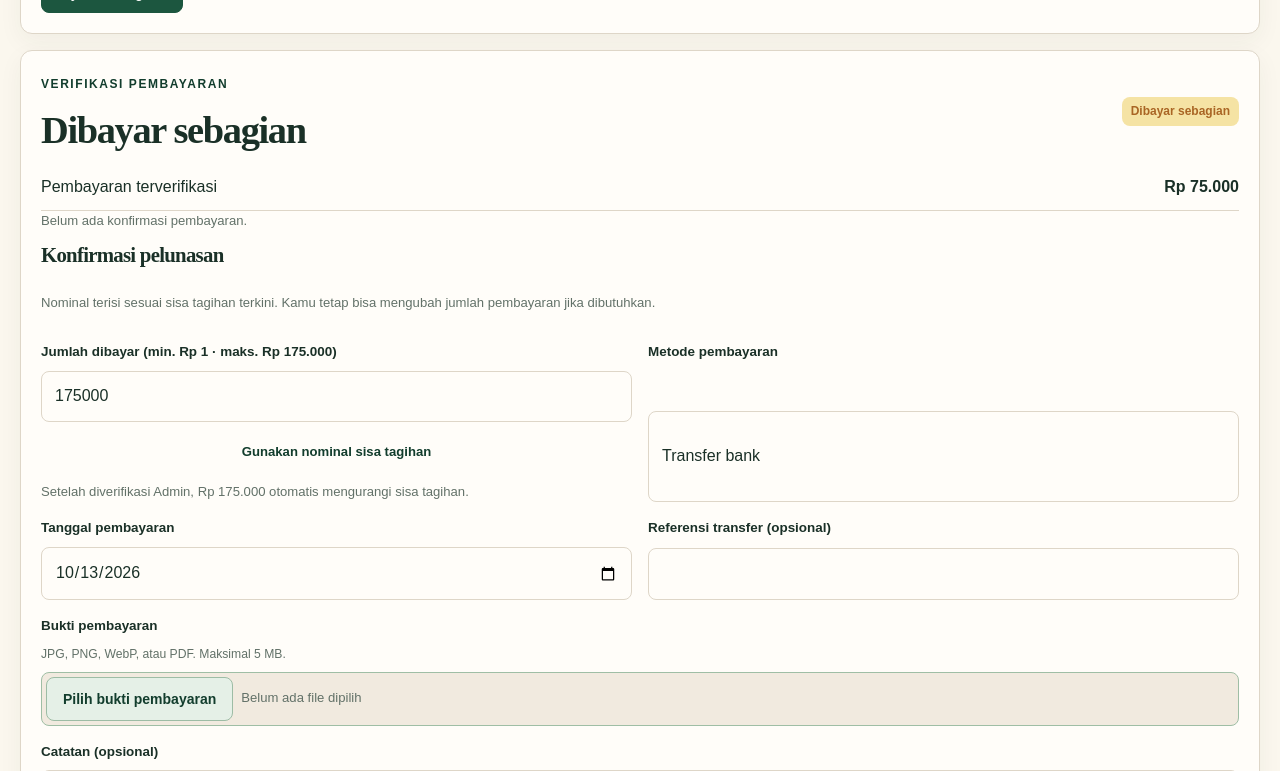
Scenario: BFG-TCK-003 settlement reminder UX › explains a paid DP and pre-fills current settlement amount on customer's invoice
(page scrolled)
Expected: the heading "Konfirmasi pelunasan" is shown, 41,243 -> 224,266
Replace the text in the number field labelled "Jumlah dibayar" with "100000" at (336, 397), box 41,371 -> 632,422
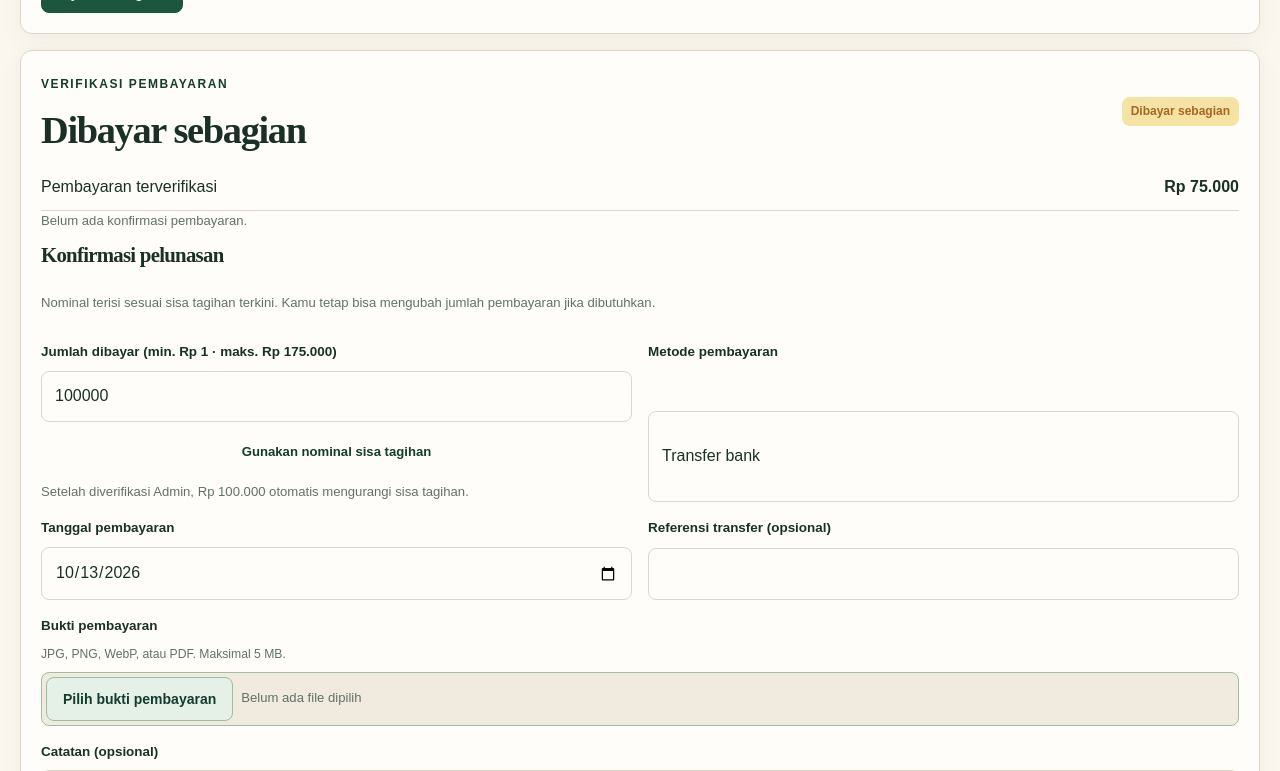
Click the button "Gunakan nominal sisa tagihan" at (336, 452), box 41,430 -> 632,474
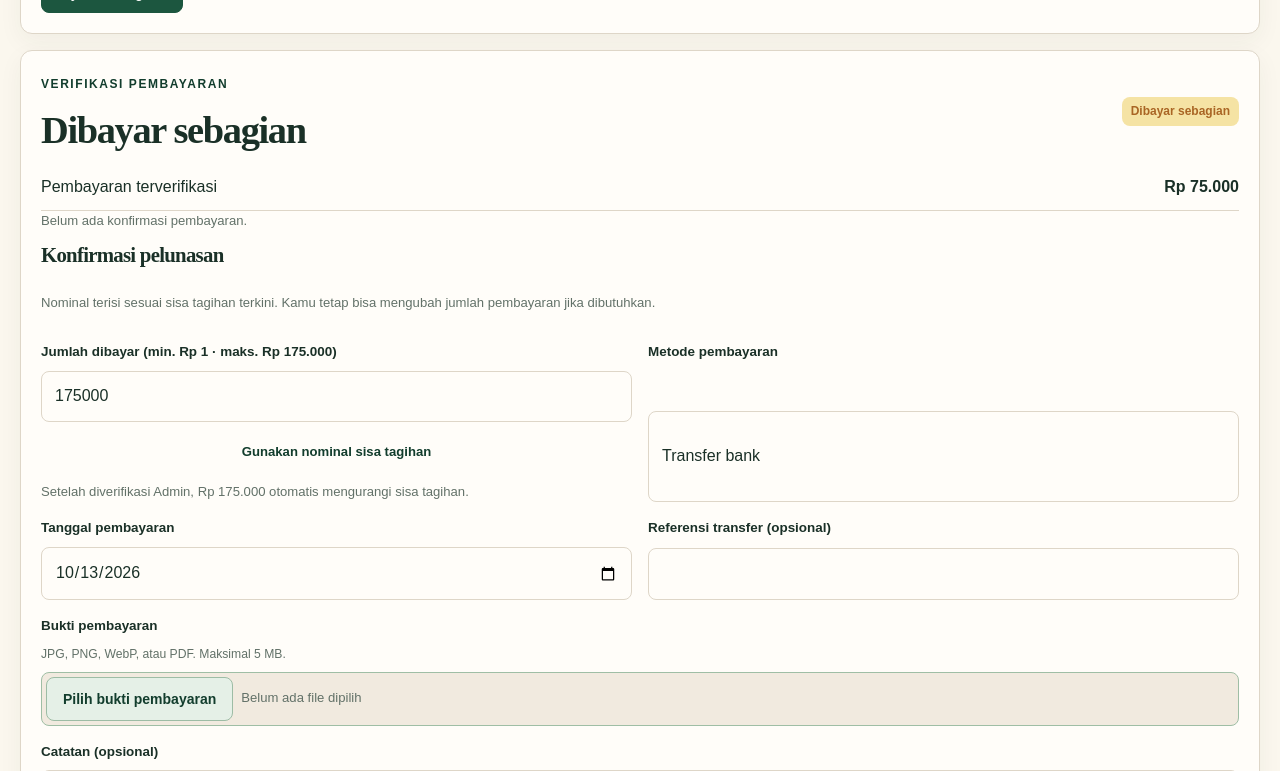
Now the number field labelled "Jumlah dibayar" holds "175000", box 41,371 -> 632,422
